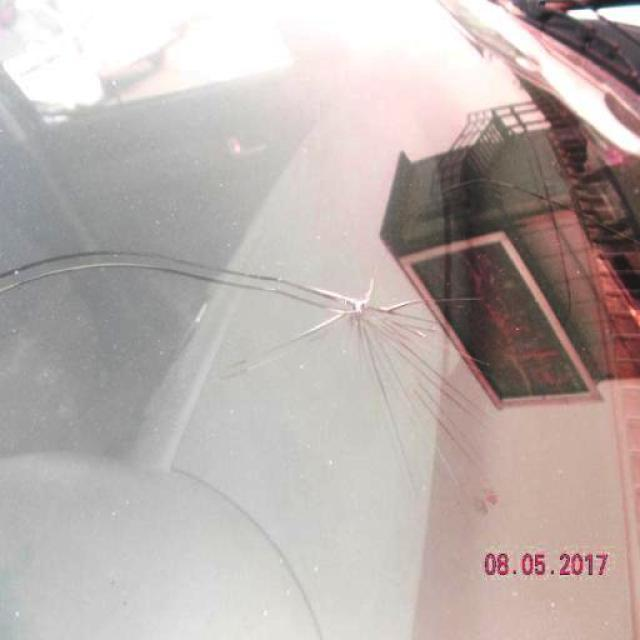car damage: (300, 268, 475, 421)
